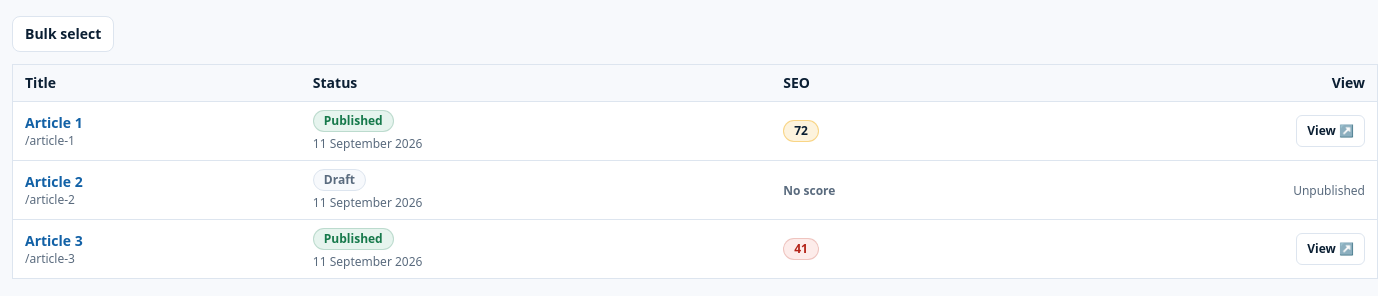
Test: the articles list › shows the score, the live page and no checkboxes until asked
Expected: the link named "SEO analysis: 72" is shown, [783,120,819,142]
Click the button "Bulk select".
click(63, 34)  # box [12,16,114,52]
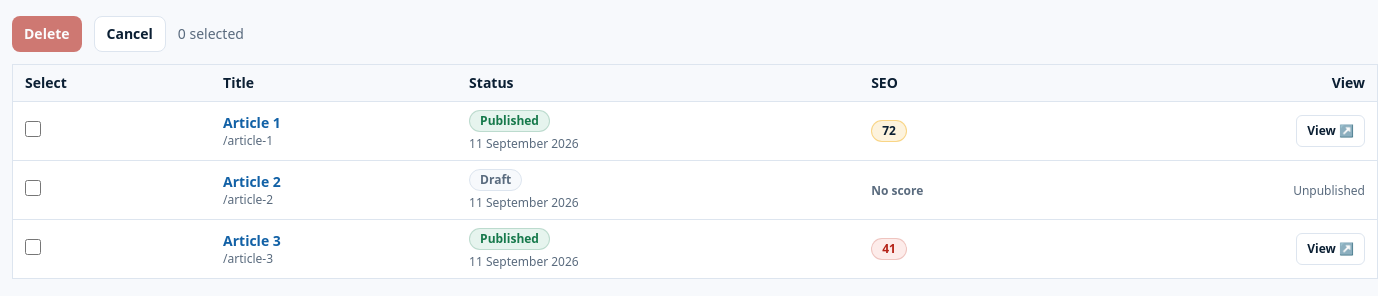
Result: the number of checkboxes is 3 at [25,120,41,136]; [25,180,41,196]; [25,238,41,254]
